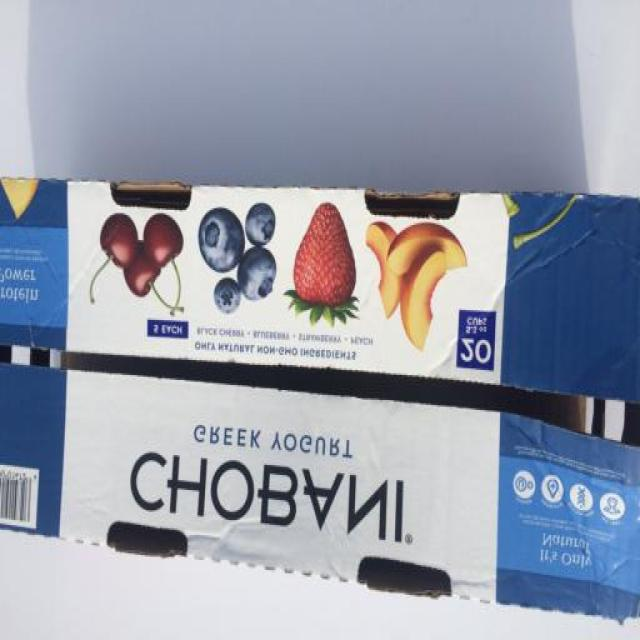cardboard: (0, 175, 640, 625)
